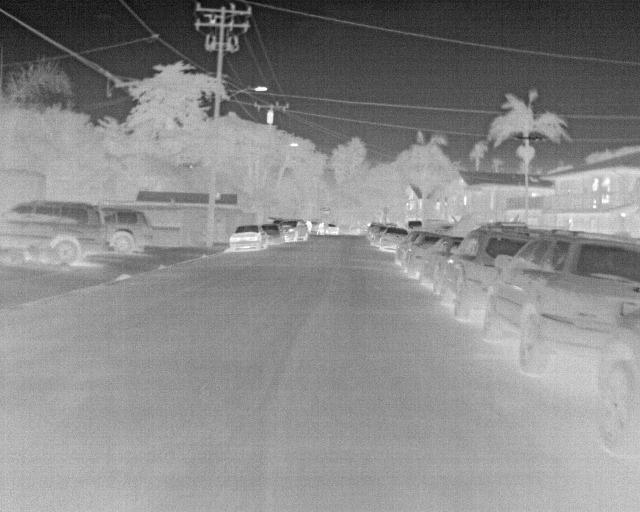car: (482, 229, 637, 376), (432, 220, 542, 326), (4, 196, 104, 271), (593, 292, 636, 460), (415, 237, 463, 290), (101, 208, 151, 258), (396, 233, 443, 269), (226, 227, 268, 254), (377, 227, 410, 253), (280, 221, 310, 244), (259, 225, 283, 244), (370, 226, 386, 247), (324, 220, 342, 236), (405, 219, 423, 234)
